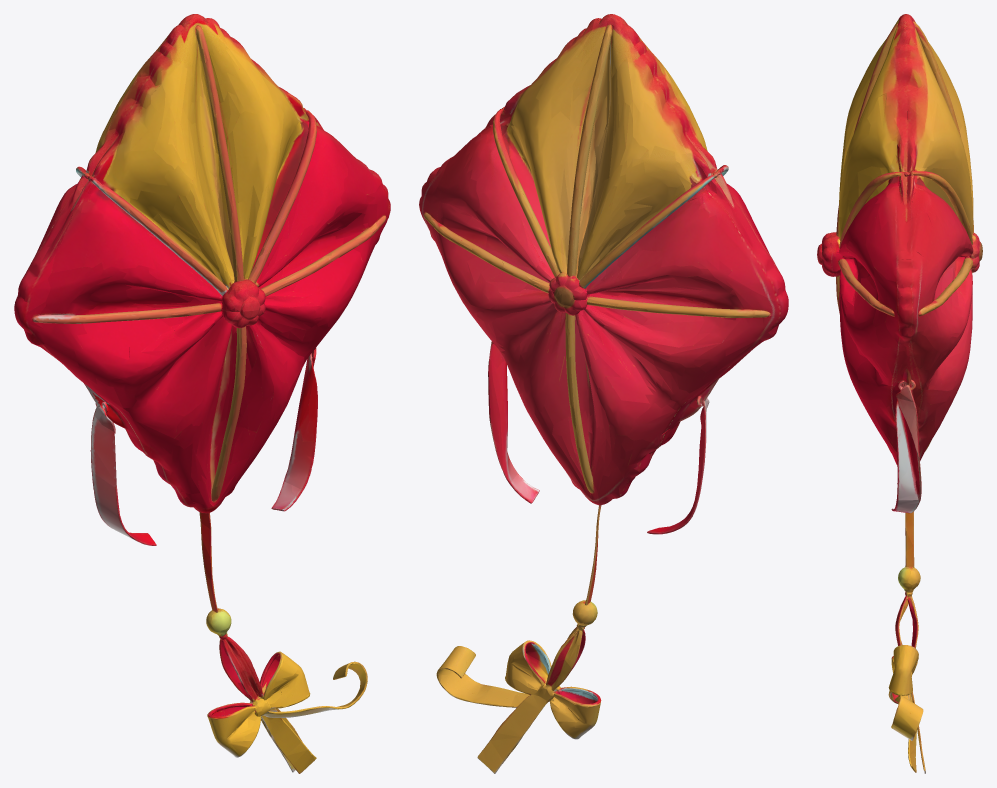
Rendered from meshy-1795740304896.glb.
3 renders of one model, left to right at view 1: azimuth 30°, elevation 25°; view 2: azimuth 150°, elevation 25°; view 3: azimuth 270°, elevation 25°, orthographic. The views are drawn at different scales.
Bounding box in the file's own units: 0.9379 × 1.91 × 0.4037.
1 material, 1 textured.
